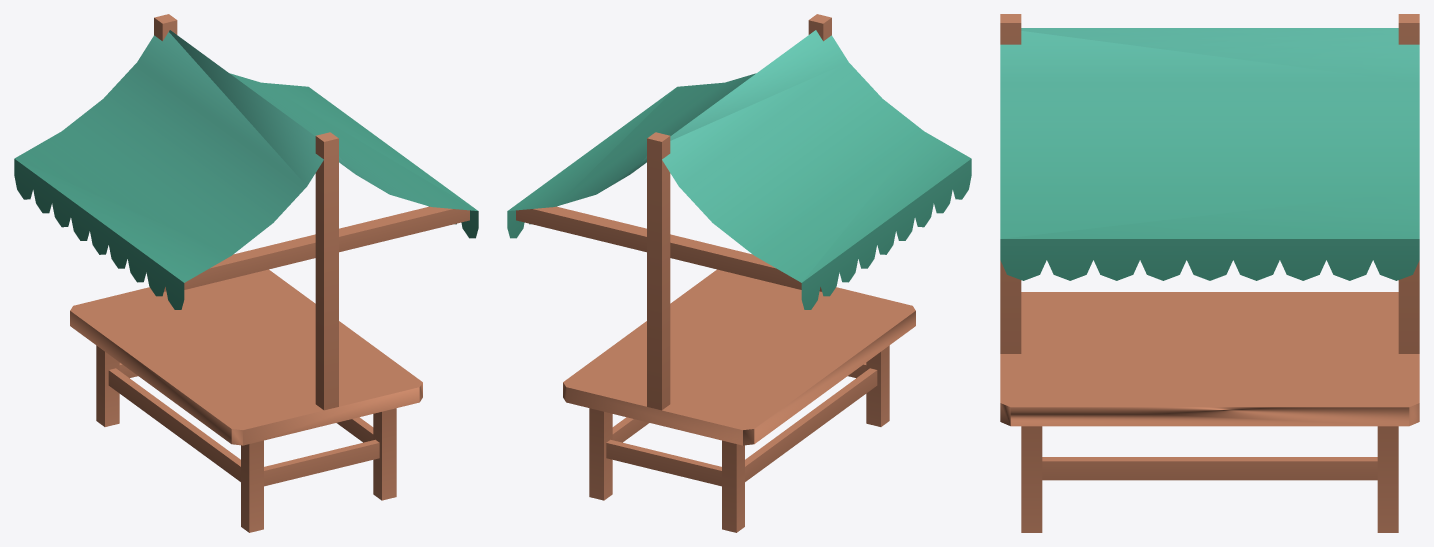
Rendered from stall-green.glb.
3 views of the same model, side by side, from view 1: azimuth 30°, elevation 25°; view 2: azimuth 150°, elevation 25°; view 3: azimuth 270°, elevation 25° (orthographic). The views are drawn at different scales.
Visible parts, largest first — view 1: stall-green; view 2: stall-green; view 3: stall-green.
Part boxes in pixels (box(x1,y1,x2,y2)): stall-green: box(14, 14, 478, 532); stall-green: box(507, 14, 971, 532); stall-green: box(1000, 14, 1419, 532).
Size of the model in its own units: 1 by 1.24 by 1.
Materials: 1 (1 with a texture image).
